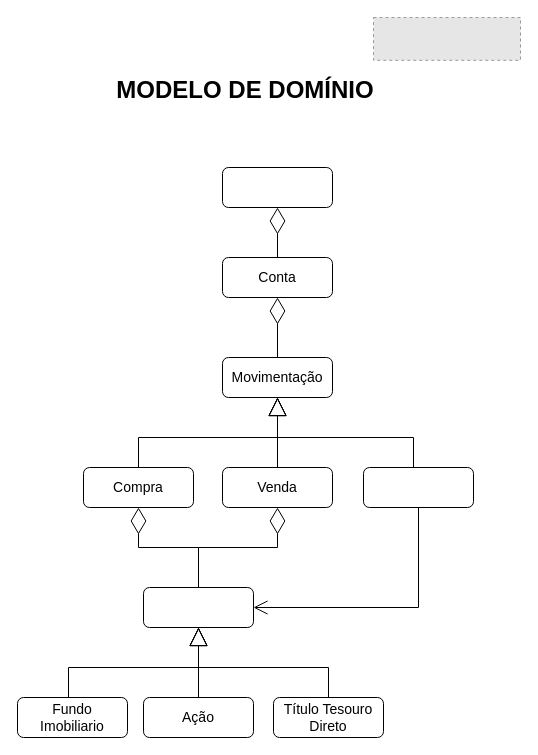
This 538x755 diagram has some shape labels left out. Grey dashed boxes stand in for pictures. The shapes that lost their labels are listed below. From the top down, each one's box as (x1, y1, x2, y2) in pixels, then its label:
(222, 166, 332, 208): Usuário
(362, 466, 474, 508): Recebimento
(142, 586, 254, 628): Cota
